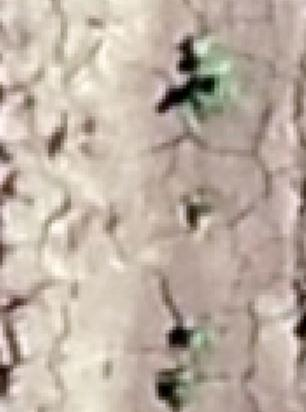cotton: (193, 39, 229, 71), (176, 379, 203, 405), (196, 94, 230, 113), (190, 331, 215, 352)
